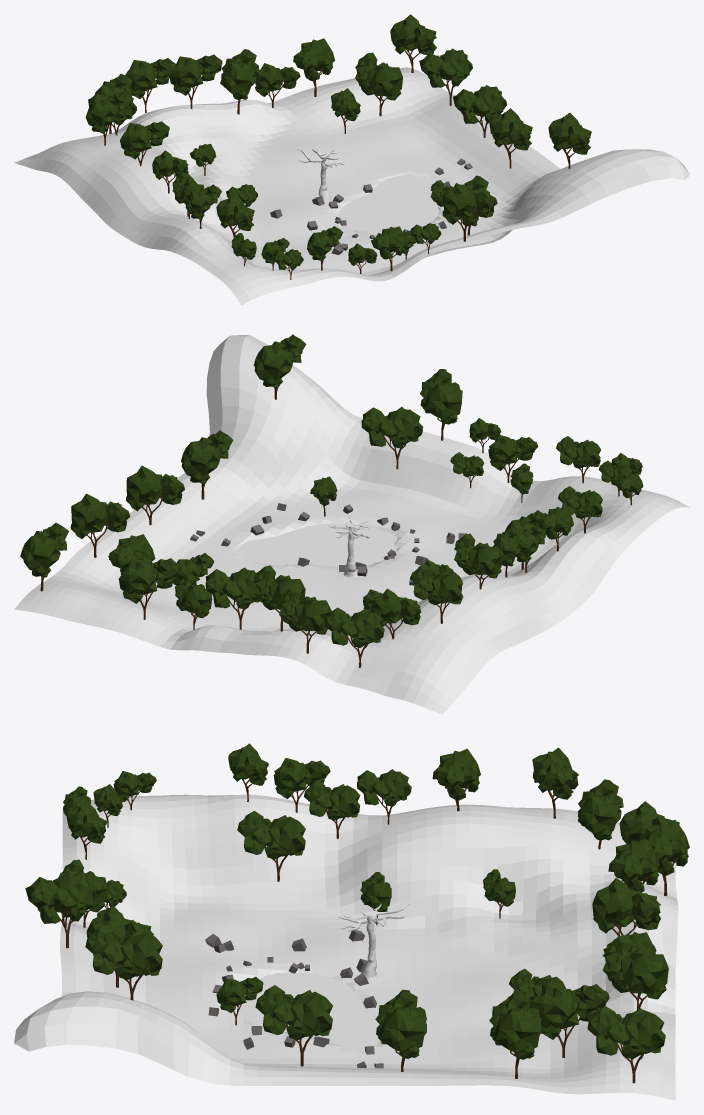
File: forest-join.gltf
The picture shows the model from 3 angles, top to bottom: view 1: azimuth 30°, elevation 25°; view 2: azimuth 150°, elevation 25°; view 3: azimuth 270°, elevation 25°; orthographic projection. The views are drawn at different scales.
Visible parts, largest first — view 1: Landscape, Crown, Water, Procedural Low Poly Rock, Distinct Tree; view 2: Landscape, Crown, Water, Procedural Low Poly Rock, Distinct Tree; view 3: Landscape, Crown, Water, Procedural Low Poly Rock, Distinct Tree.
Part boxes in pixels (bbox=[...]): Landscape: bbox=[14, 67, 689, 305]; Crown: bbox=[85, 14, 591, 279]; Water: bbox=[338, 174, 438, 235]; Procedural Low Poly Rock: bbox=[270, 158, 472, 254]; Distinct Tree: bbox=[295, 148, 344, 203]; Landscape: bbox=[14, 334, 689, 714]; Crown: bbox=[20, 334, 643, 667]; Water: bbox=[236, 523, 397, 566]; Procedural Low Poly Rock: bbox=[190, 503, 467, 585]; Distinct Tree: bbox=[329, 517, 369, 577]; Landscape: bbox=[14, 794, 678, 1100]; Crown: bbox=[25, 743, 689, 1083]; Water: bbox=[235, 972, 380, 1047]; Procedural Low Poly Rock: bbox=[205, 930, 383, 1068]; Distinct Tree: bbox=[338, 903, 409, 980].
Size of the model in its own units: 226 by 62.02 by 221.
